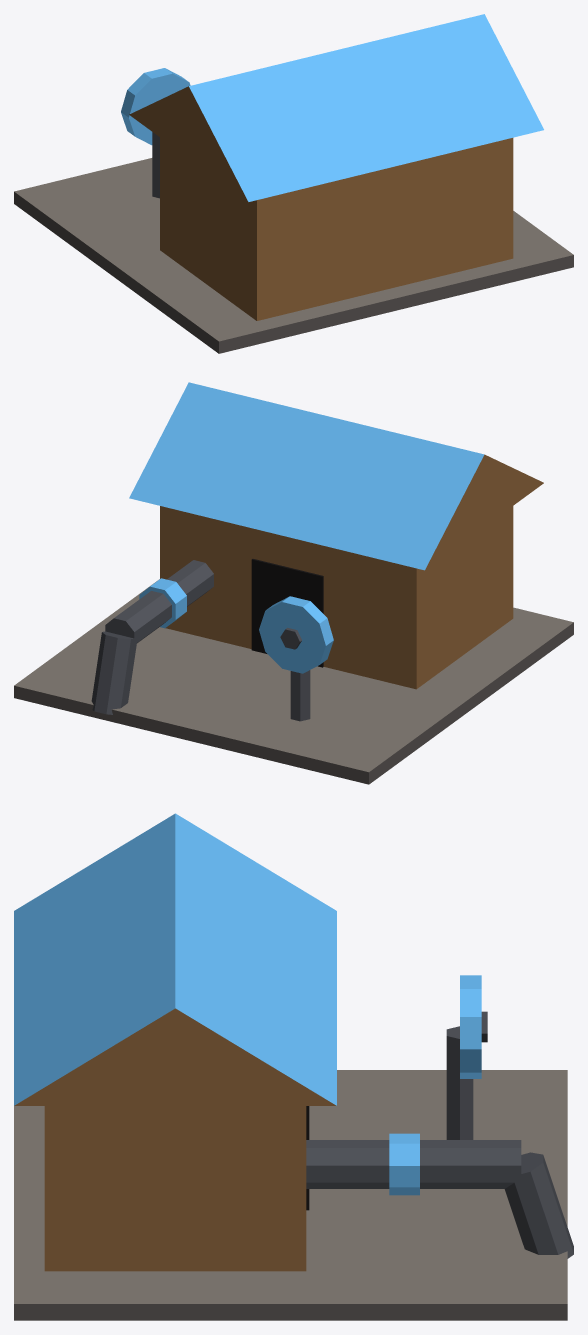
Rendered from water_pump.glb.
The picture shows the model from 3 angles, top to bottom: view 1: azimuth 30°, elevation 25°; view 2: azimuth 150°, elevation 25°; view 3: azimuth 270°, elevation 25°; orthographic projection. The views are drawn at different scales.
Visible parts, largest first — view 1: water_pump; view 2: water_pump; view 3: water_pump.
Boxes of the visible parts, x1,y1,x2,y2 form: water_pump: [14, 14, 573, 353]; water_pump: [14, 382, 573, 784]; water_pump: [14, 813, 573, 1320].
Bounding box in the file's own units: 1.8 × 1.05 × 1.82.
